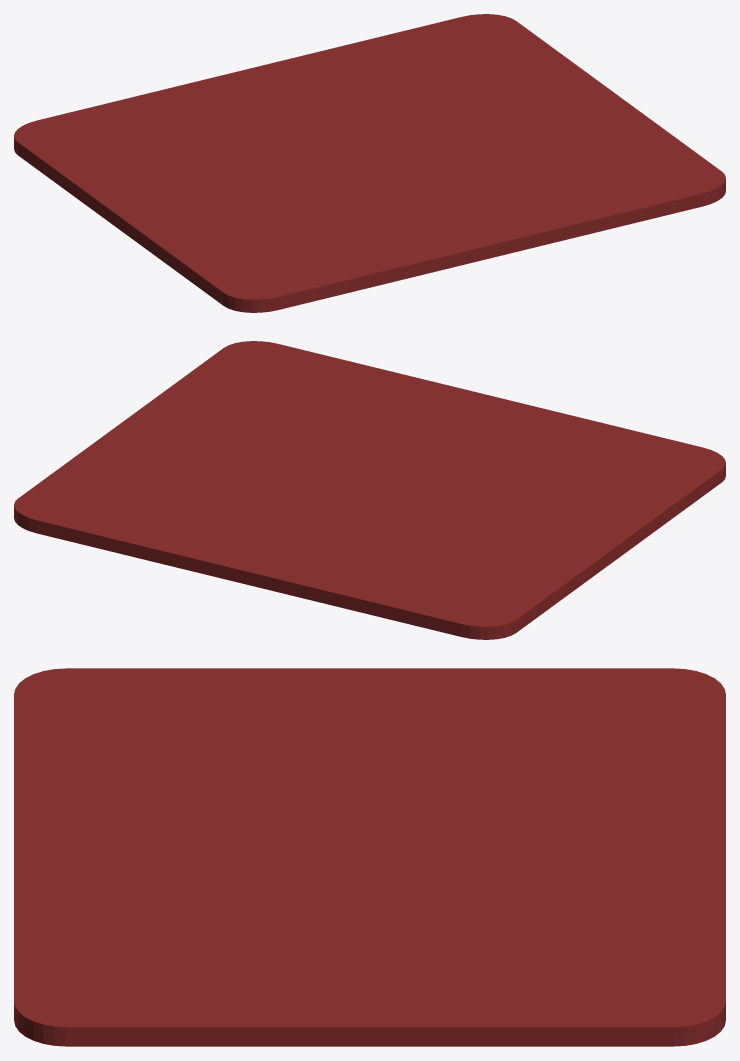
File: carpet_asset.dae
3 views of the same model, one above another, from view 1: azimuth 30°, elevation 25°; view 2: azimuth 150°, elevation 25°; view 3: azimuth 270°, elevation 25° (orthographic). The views are drawn at different scales.
Visible parts, largest first — view 1: Carpet; view 2: Carpet; view 3: Carpet.
Part boxes in pixels (x1,y1,x2,y2): Carpet: [14, 14, 725, 312]; Carpet: [14, 341, 725, 639]; Carpet: [14, 668, 725, 1046].
Size of the model in its own units: 2.44 by 2.05 by 0.0614.
